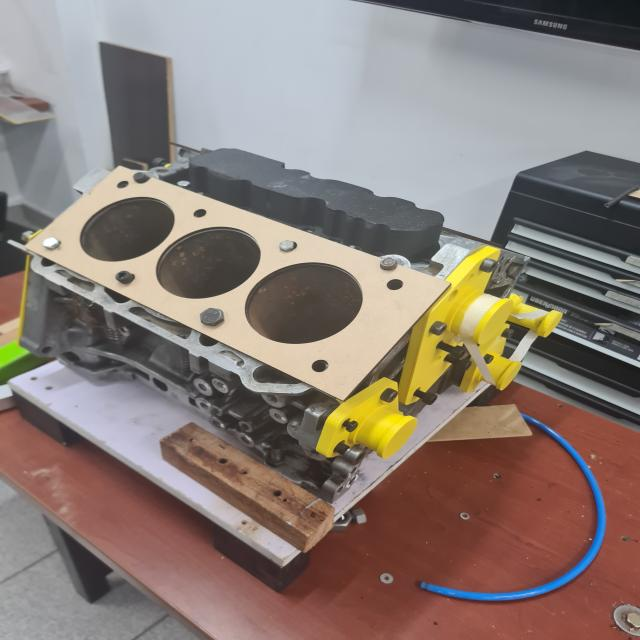vista1: (23, 165, 451, 399)
